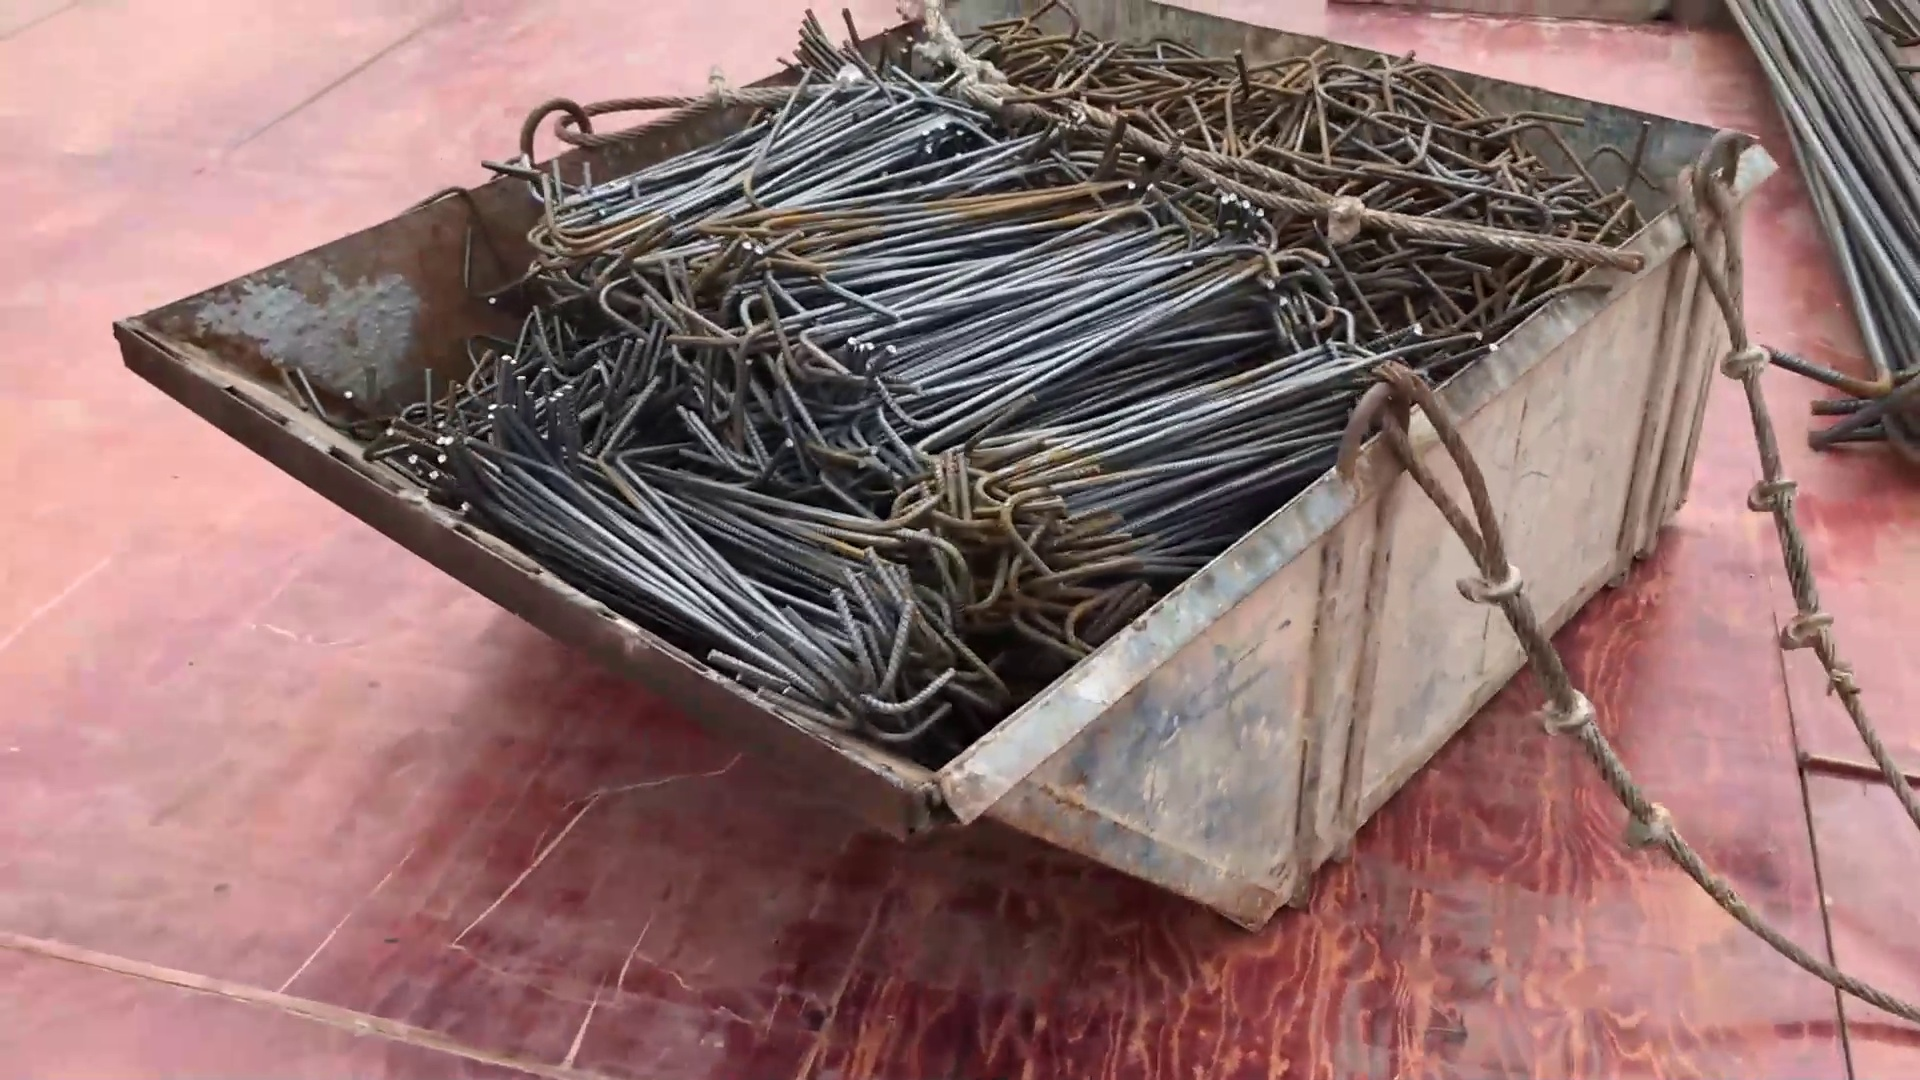hopper: (84, 28, 1772, 910)
rebar: (1706, 7, 1920, 471)
